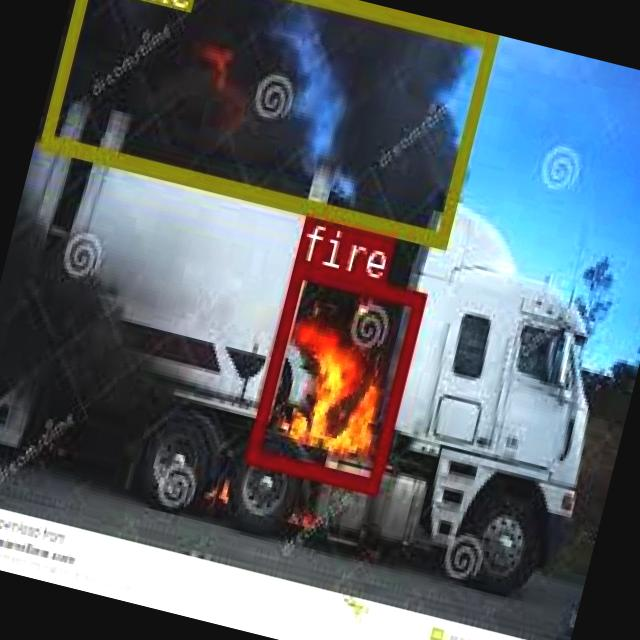fire: (244, 260, 426, 492)
smoke: (38, 0, 496, 244)
